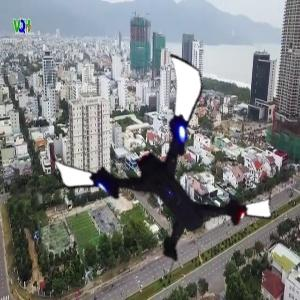drone: (57, 75, 257, 275)
